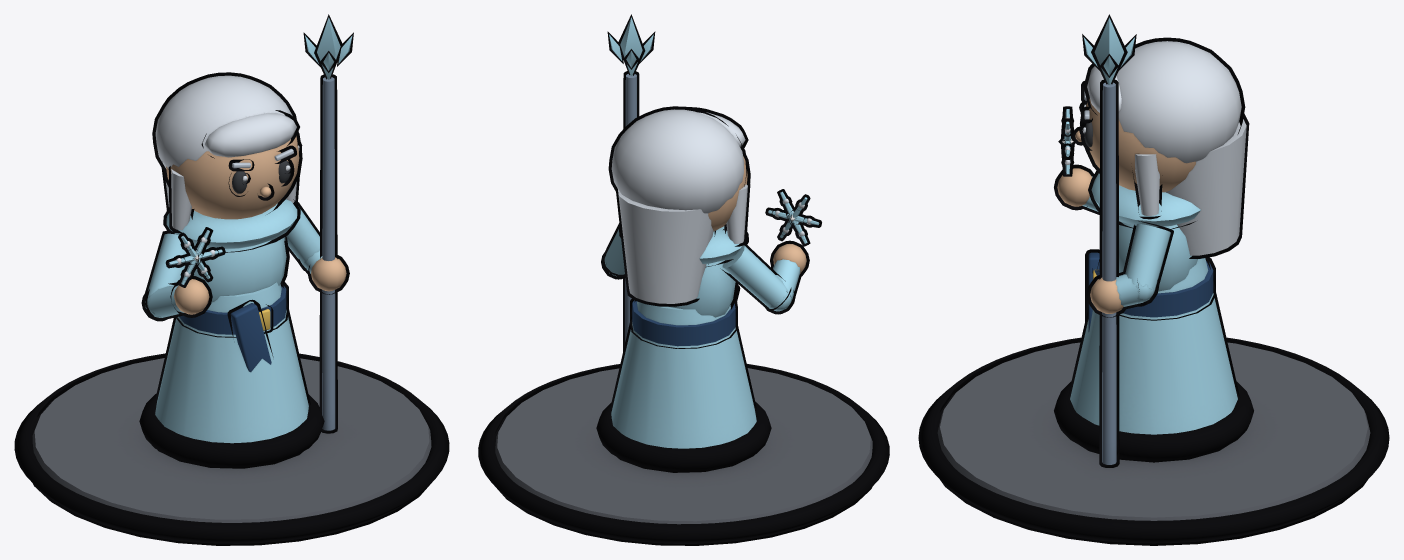
File: frost_mage.fbx
The picture shows the model from 3 angles, left to right: view 1: azimuth 30°, elevation 25°; view 2: azimuth 150°, elevation 25°; view 3: azimuth 270°, elevation 25°; orthographic projection. The views are drawn at different scales.
Visible parts, largest first — view 1: frost_mage; view 2: frost_mage; view 3: frost_mage.
Boxes of the visible parts, x1,y1,x2,y2 form: frost_mage: (14, 14, 449, 545); frost_mage: (478, 14, 889, 545); frost_mage: (918, 14, 1389, 545).
Bounding box in the file's own units: 1.58 × 1.77 × 1.58.
Materials: 2 (1 with a texture image).
